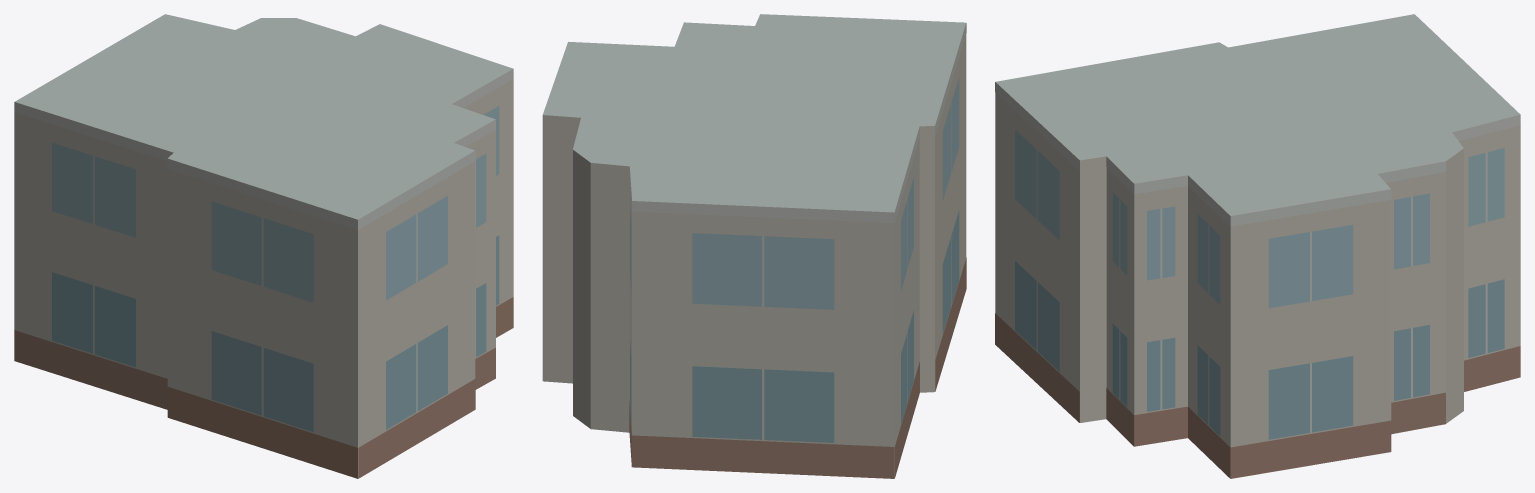
The model's file is survey-upis-32661805.glb.
3 renders of one model, left to right at view 1: azimuth 30°, elevation 25°; view 2: azimuth 150°, elevation 25°; view 3: azimuth 270°, elevation 25°, orthographic. The views are drawn at different scales.
Parts seen in each view (by area): view 1: survey-upis-32661805.tmp; view 2: survey-upis-32661805.tmp; view 3: survey-upis-32661805.tmp.
Part boxes in pixels (x1,y1,x2,y2): survey-upis-32661805.tmp: [14, 14, 513, 478]; survey-upis-32661805.tmp: [542, 14, 966, 478]; survey-upis-32661805.tmp: [995, 14, 1520, 478].
Size of the model in its own units: 10.07 by 6.1 by 11.07.
